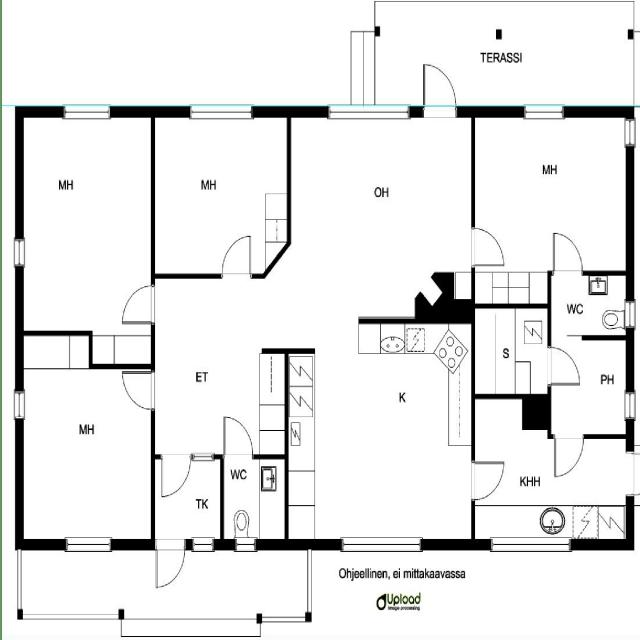door: (424, 65, 456, 117), (156, 538, 185, 588), (122, 371, 155, 409), (547, 347, 580, 385), (471, 462, 504, 499), (555, 434, 584, 476), (222, 236, 251, 278), (554, 233, 582, 276), (162, 454, 190, 496), (225, 416, 252, 459), (122, 286, 154, 322), (471, 229, 503, 265)
